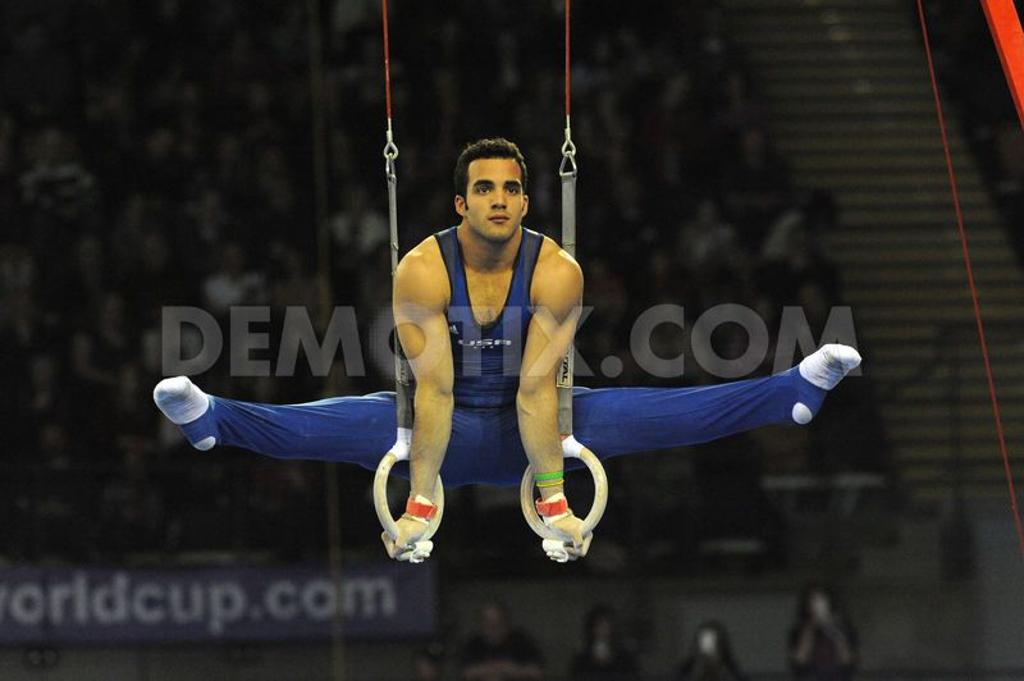face: (464, 156, 522, 240)
